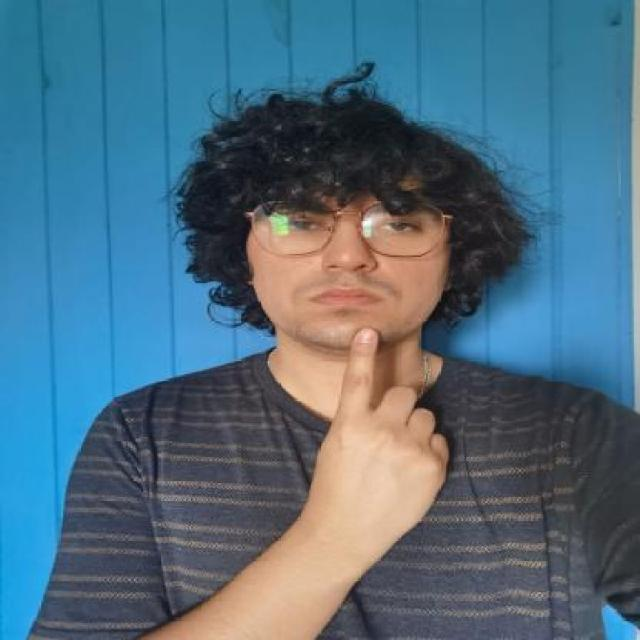T: (322, 323, 455, 551)
